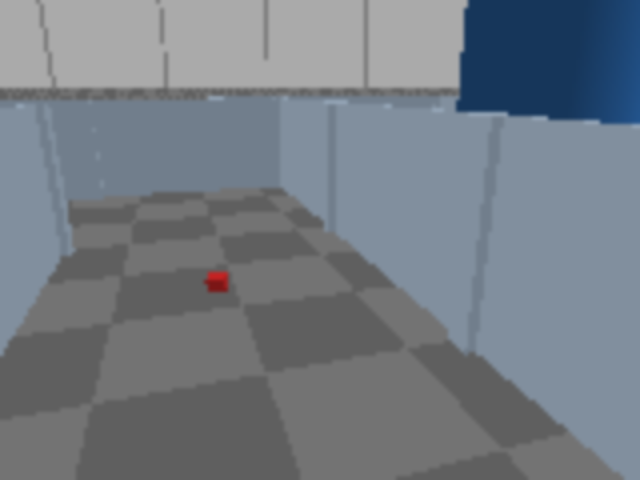puck: (206, 272, 228, 294)
